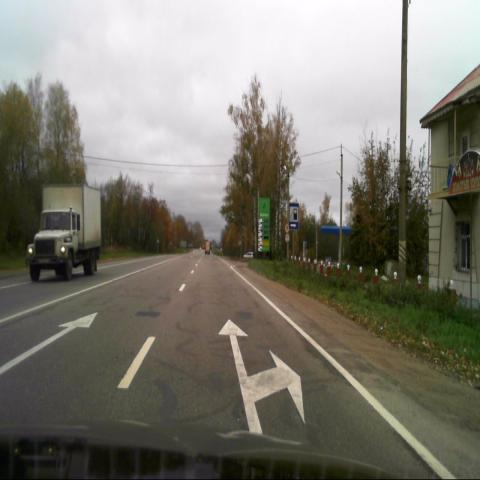7_3: (289, 202, 299, 228)
